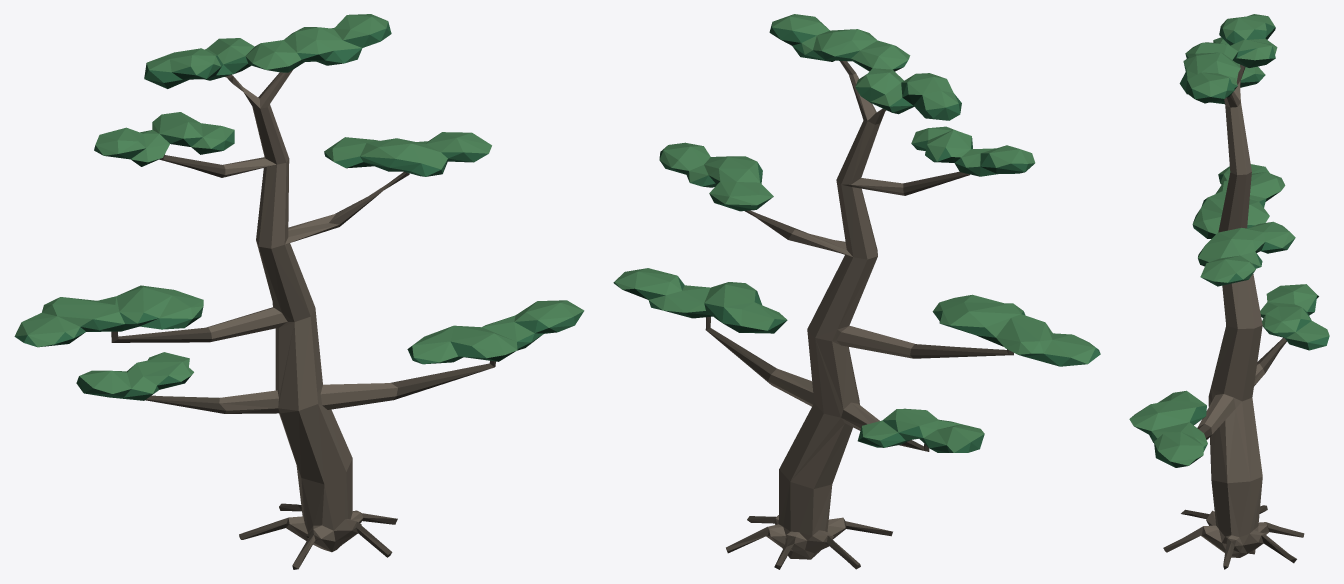
File: ancient-pine-3011-lod2.glb
3 views of the same model, side by side, from view 1: azimuth 30°, elevation 25°; view 2: azimuth 150°, elevation 25°; view 3: azimuth 270°, elevation 25° (orthographic). The views are drawn at different scales.
Parts seen in each view (by area): view 1: n12.006, n8.006, n11.006, n9.006, n10.006; view 2: n12.006, n8.006, n11.006, n9.006, n10.006; view 3: n12.006, n8.006, n11.006, n9.006, n10.006.
Part boxes in pixels (left/top/right/bottom): n12.006: left=14, top=14, right=584, bottom=393; n8.006: left=206, top=70, right=397, bottom=554; n11.006: left=15, top=21, right=583, bottom=397; n9.006: left=111, top=75, right=495, bottom=569; n10.006: left=39, top=54, right=557, bottom=400; n12.006: left=614, top=14, right=1095, bottom=452; n8.006: left=766, top=73, right=914, bottom=559; n11.006: left=635, top=23, right=1100, bottom=452; n9.006: left=705, top=61, right=1013, bottom=569; n10.006: left=613, top=40, right=1043, bottom=452; n12.006: left=1129, top=14, right=1329, bottom=465; n8.006: left=1192, top=68, right=1268, bottom=557; n11.006: left=1149, top=23, right=1329, bottom=461; n9.006: left=1163, top=64, right=1304, bottom=569; n10.006: left=1134, top=27, right=1318, bottom=467.
Size of the model in its own units: 5.58 by 5.42 by 2.02.
